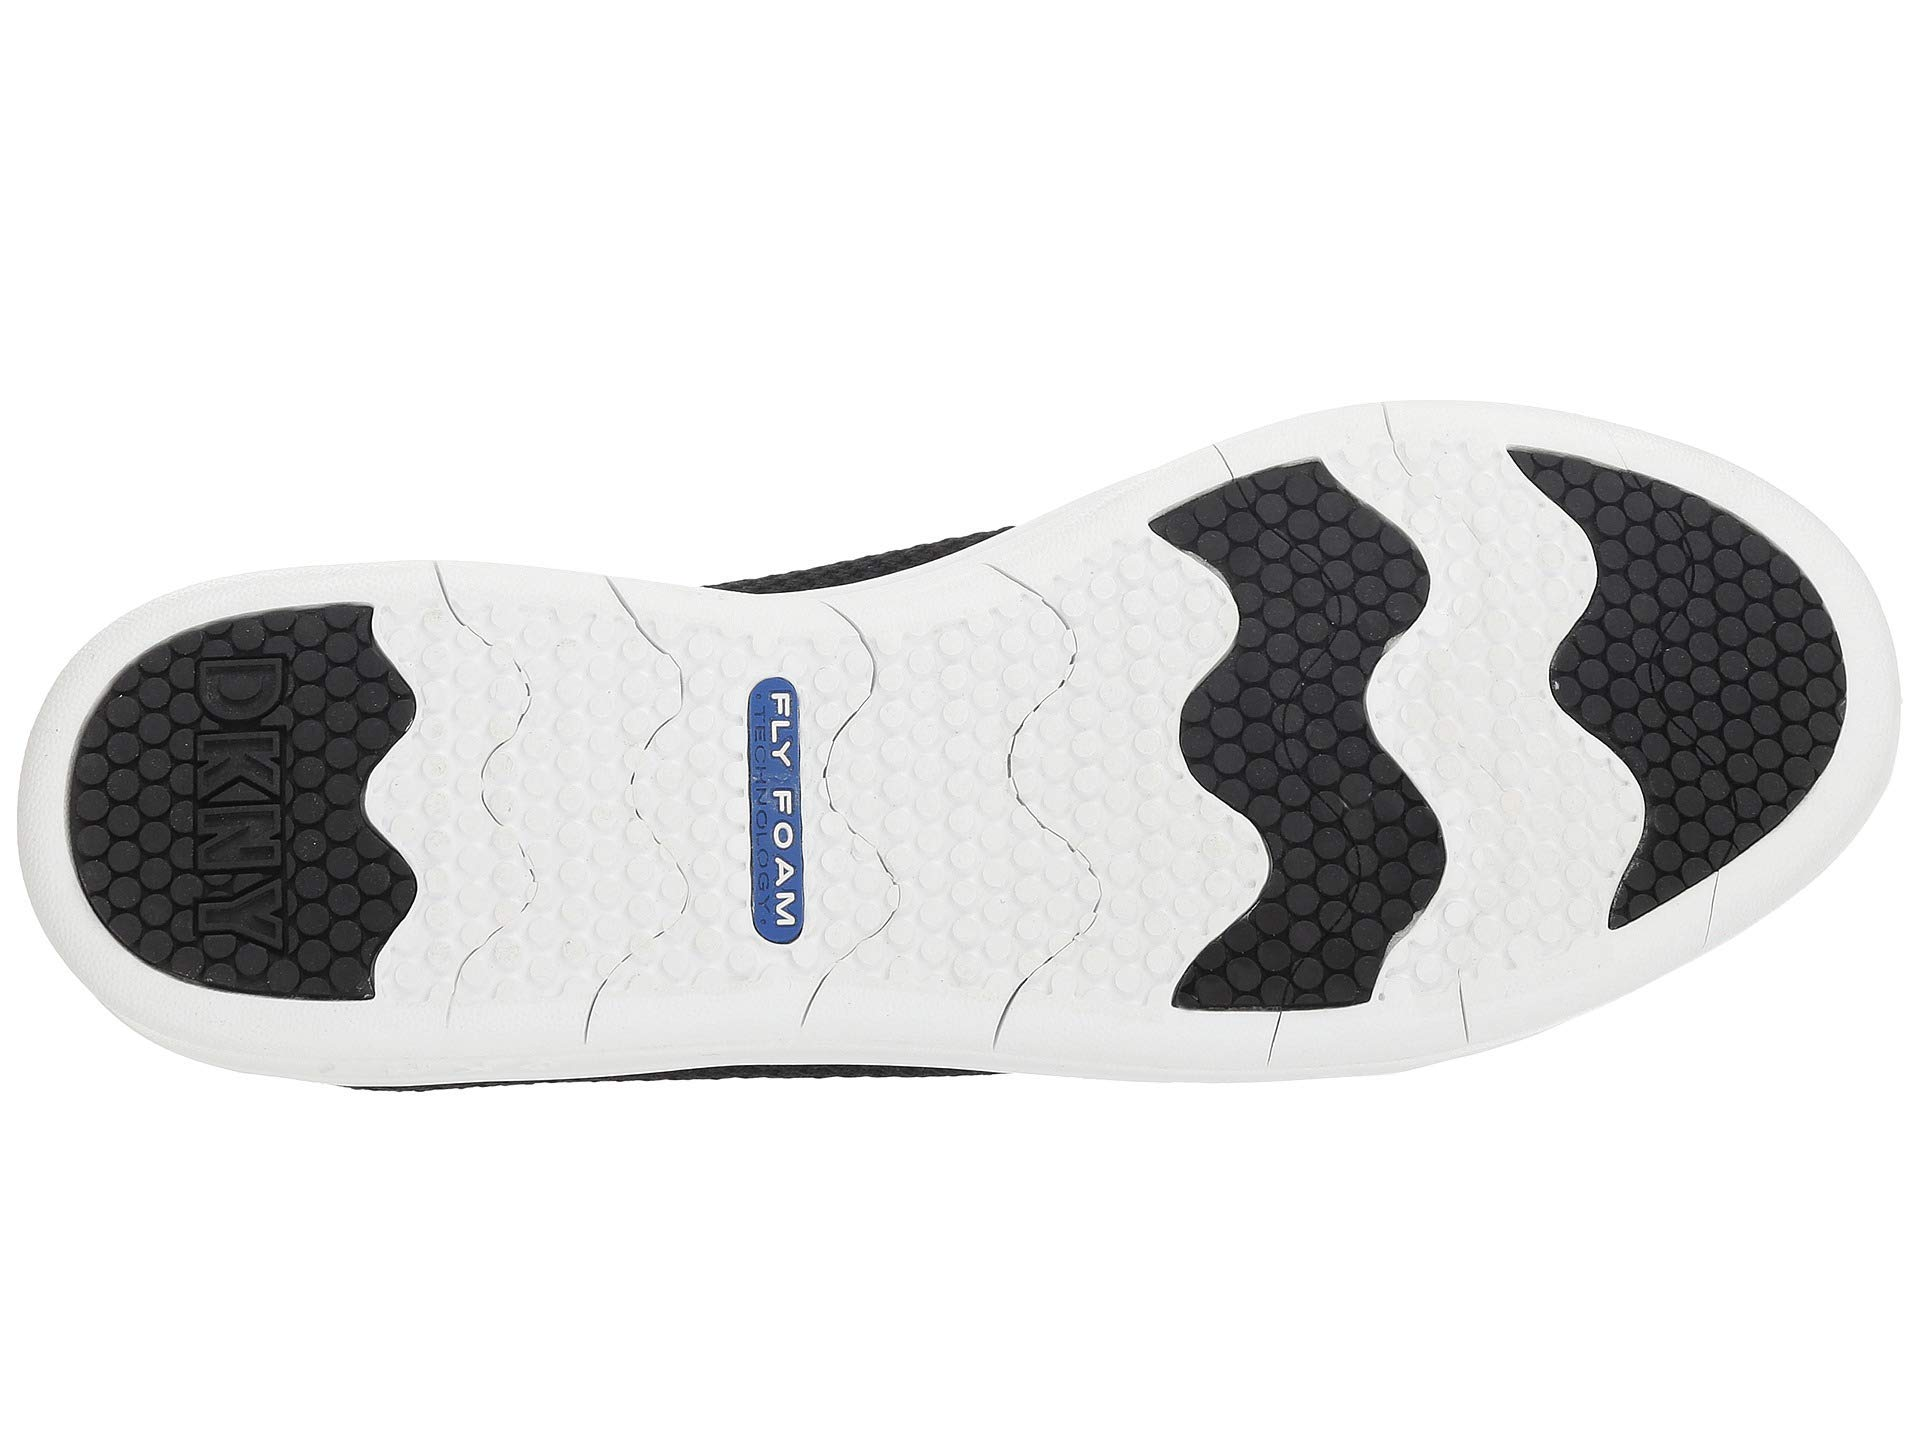circle: (1185, 463, 1420, 959), (171, 638, 317, 954), (724, 666, 815, 953)
line: (1185, 463, 1420, 959)
quad: (724, 666, 815, 953)
text: (171, 638, 317, 954), (724, 666, 815, 953)
triangle: (171, 638, 317, 954)
